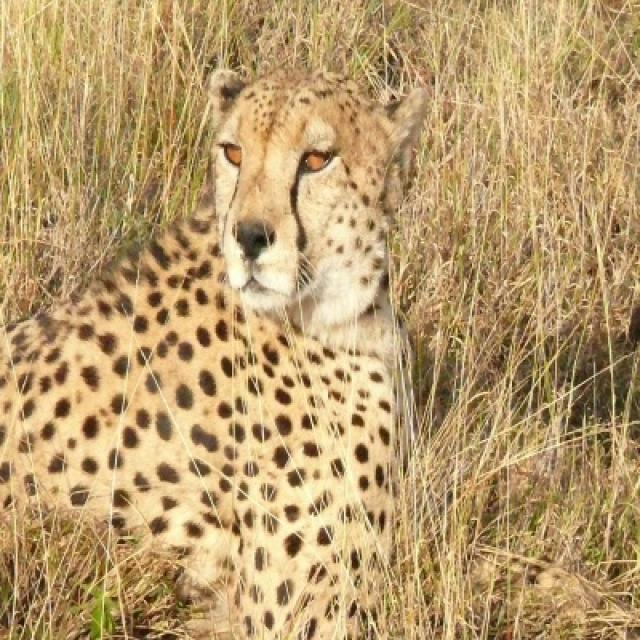Cheetah: (0, 69, 432, 638)
